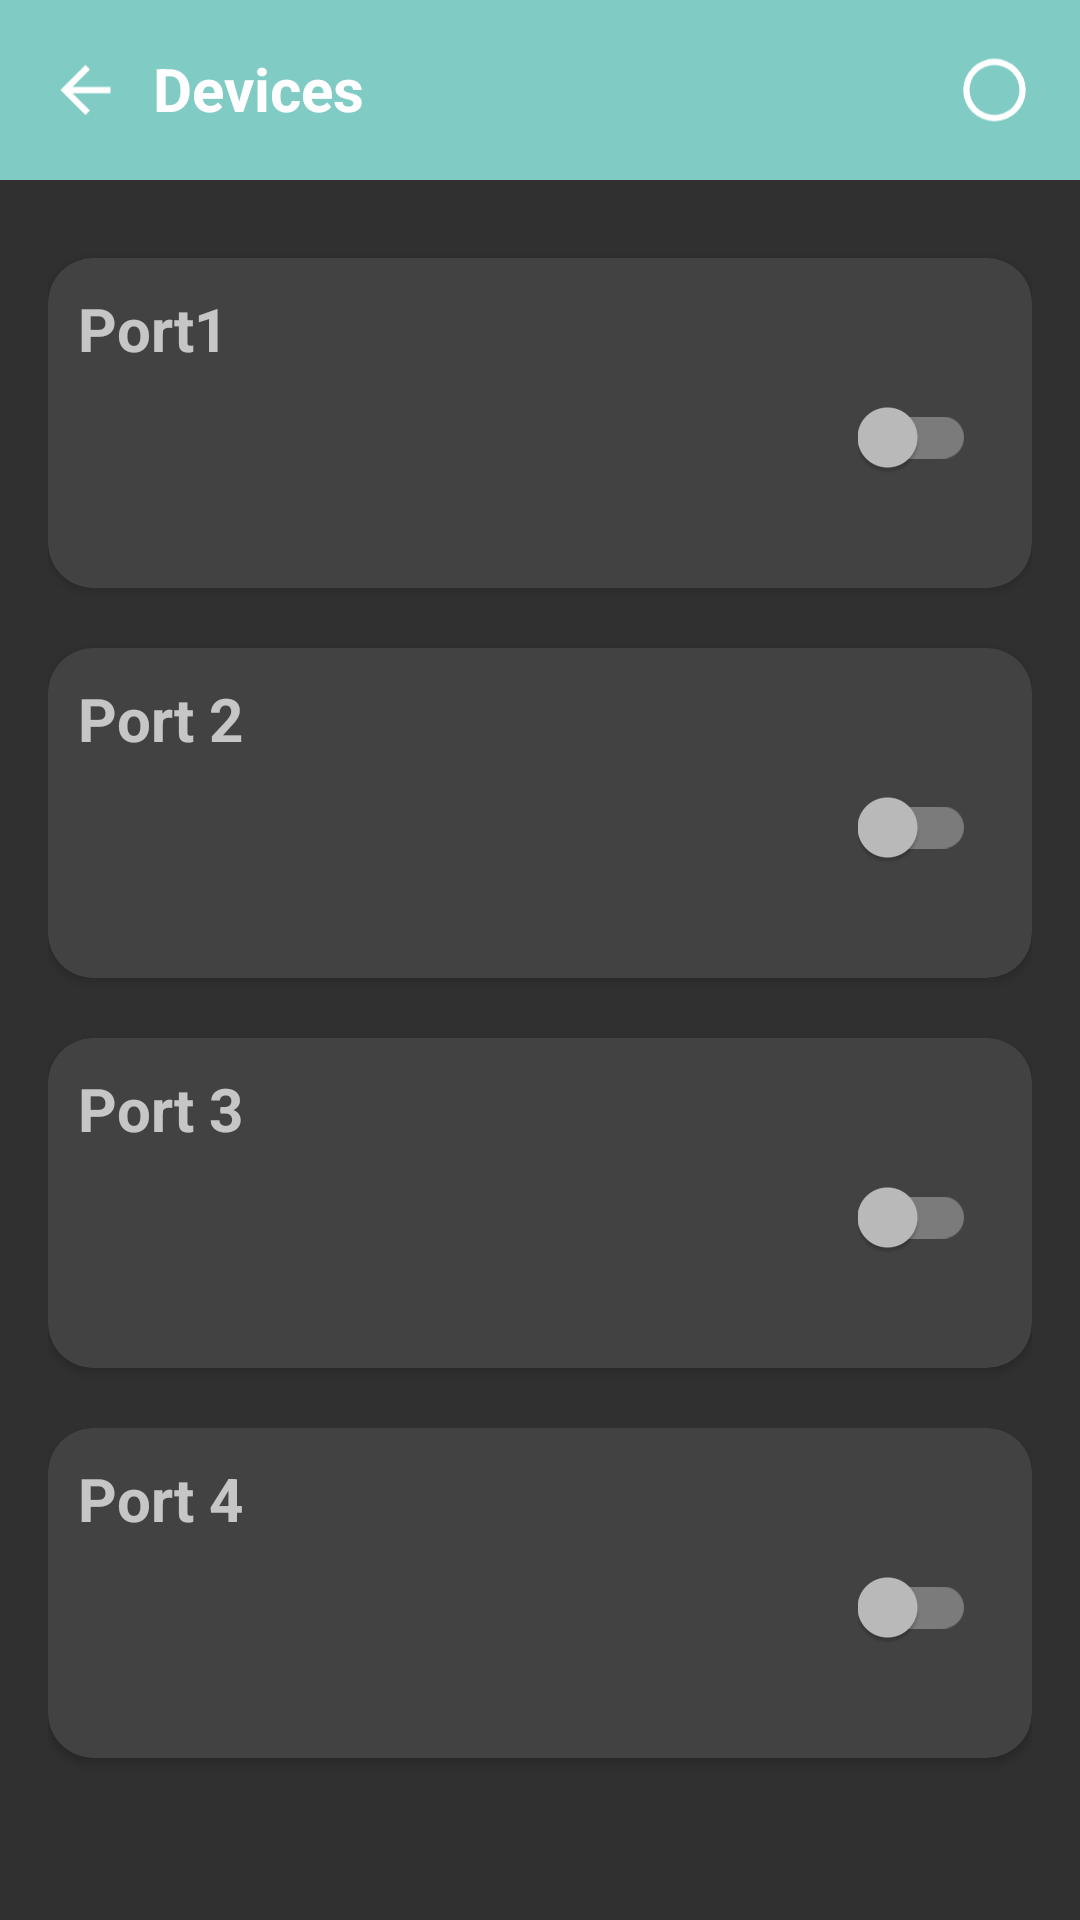

Icon bounding boxes for this 1080×1920 phone screenshot, format (x1, y1, x2, y2):
arrow back: (61, 65, 111, 115)
